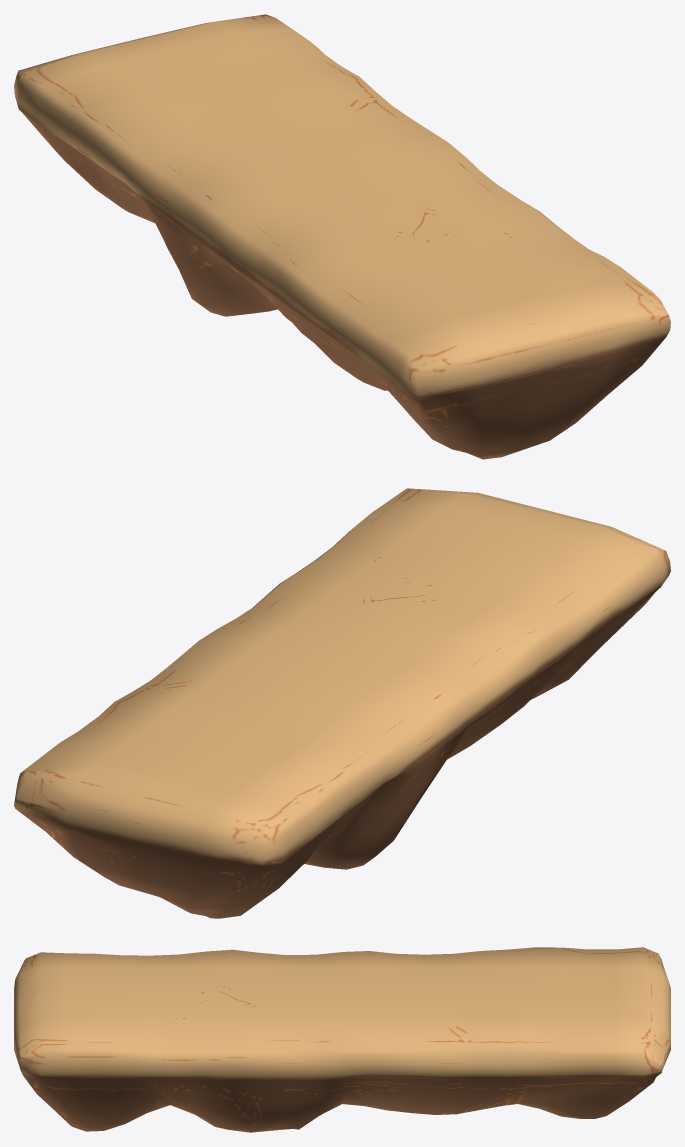
Rendered from MovingPlatform.fbx.
3 renders of one model, top to bottom at view 1: azimuth 30°, elevation 25°; view 2: azimuth 150°, elevation 25°; view 3: azimuth 270°, elevation 25°, orthographic. The views are drawn at different scales.
Parts seen in each view (by area): view 1: Cube; view 2: Cube; view 3: Cube.
Part boxes in pixels (x1,y1,x2,y2): Cube: (14, 14, 670, 459); Cube: (14, 488, 670, 918); Cube: (14, 947, 670, 1132).
Size of the model in its own units: 2 by 1.18 by 5.43.
Materials: 1 (1 with a texture image).
